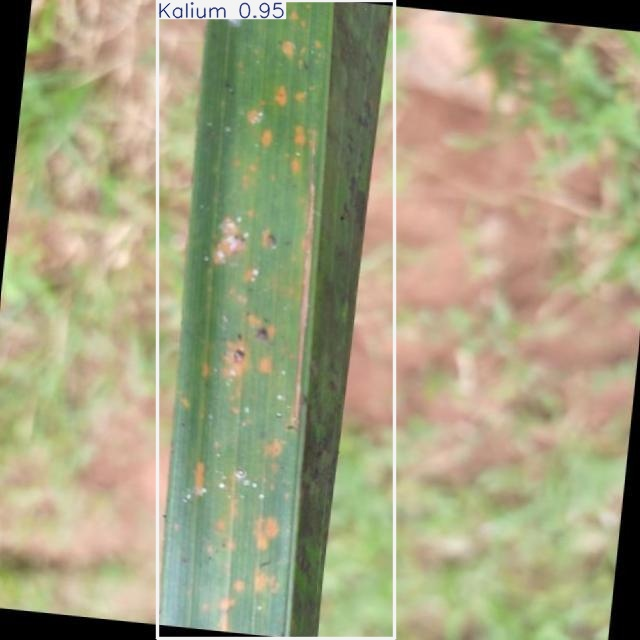Kalium: (158, 0, 395, 638)
